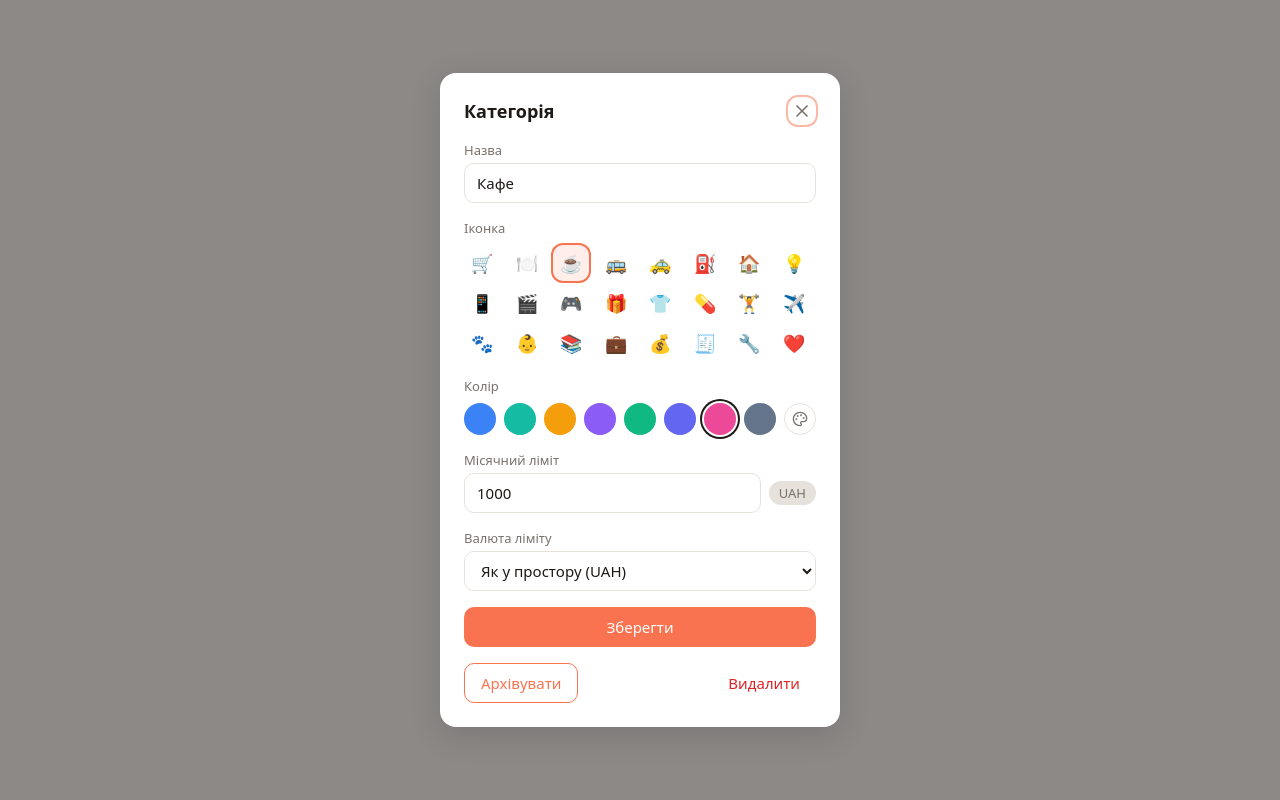
Test: CategoryDialog › does not send a zero limit
The width and height of the screenshot is (1280, 800).
Replace the text in the field labelled "Місячний ліміт" with "0" at {"x": 612, "y": 493}, box [464, 473, 761, 513]
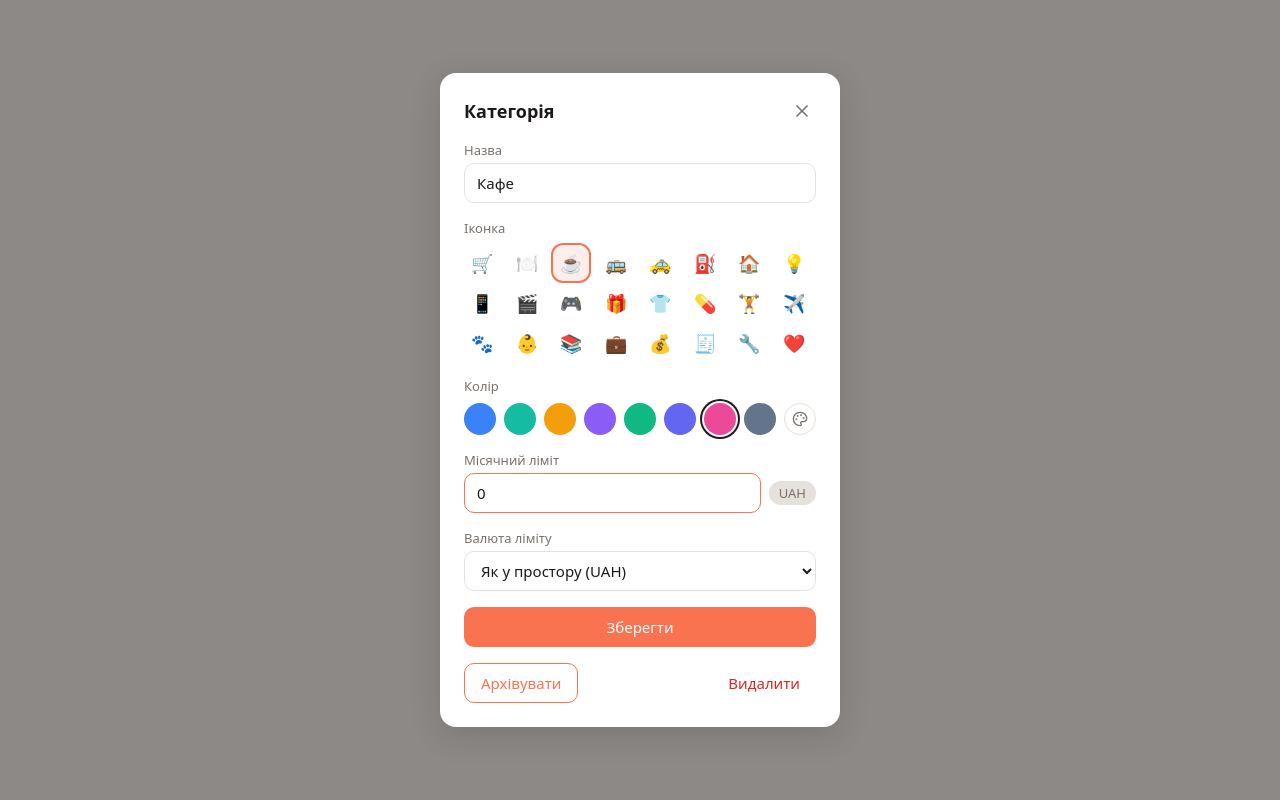
Click the button "Зберегти" at {"x": 640, "y": 627}, box [464, 607, 816, 647]
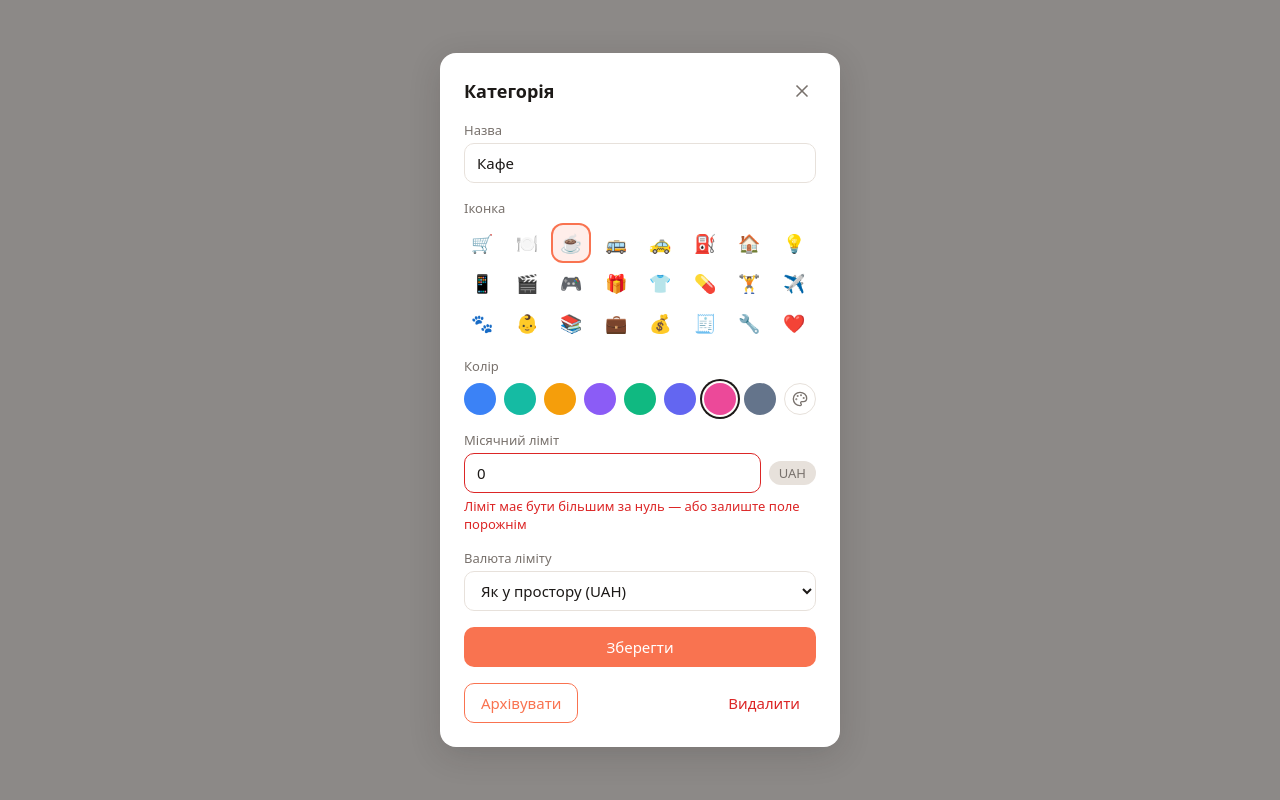
Now the text "Ліміт має бути більшим за нуль — або залиште поле порожнім" is shown, box [464, 497, 816, 533]
